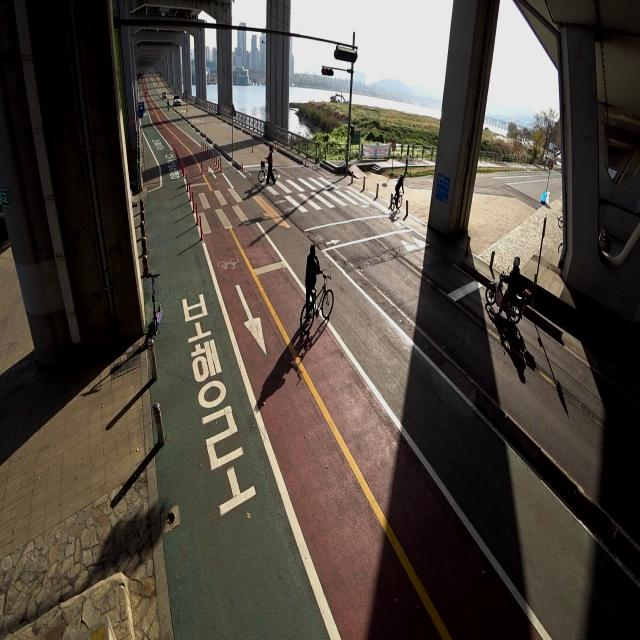Car: (171, 92, 184, 108), (158, 87, 168, 104)
Motorcycle: (485, 254, 534, 326)
